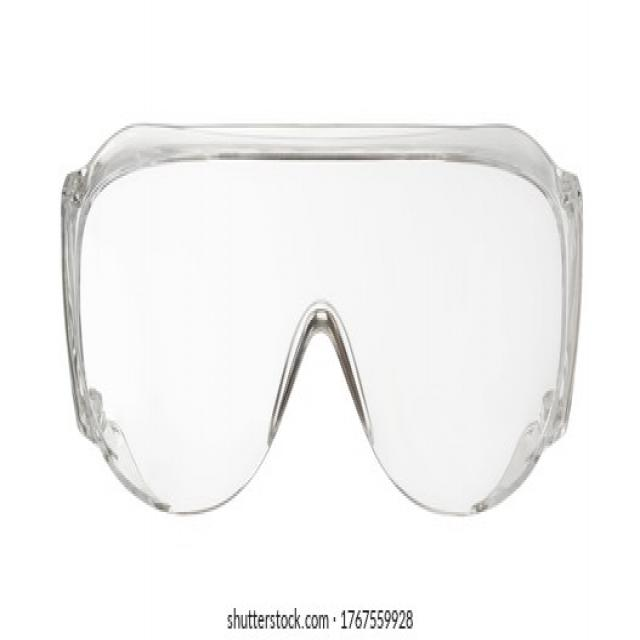Protective Glasses: (28, 68, 599, 574)
